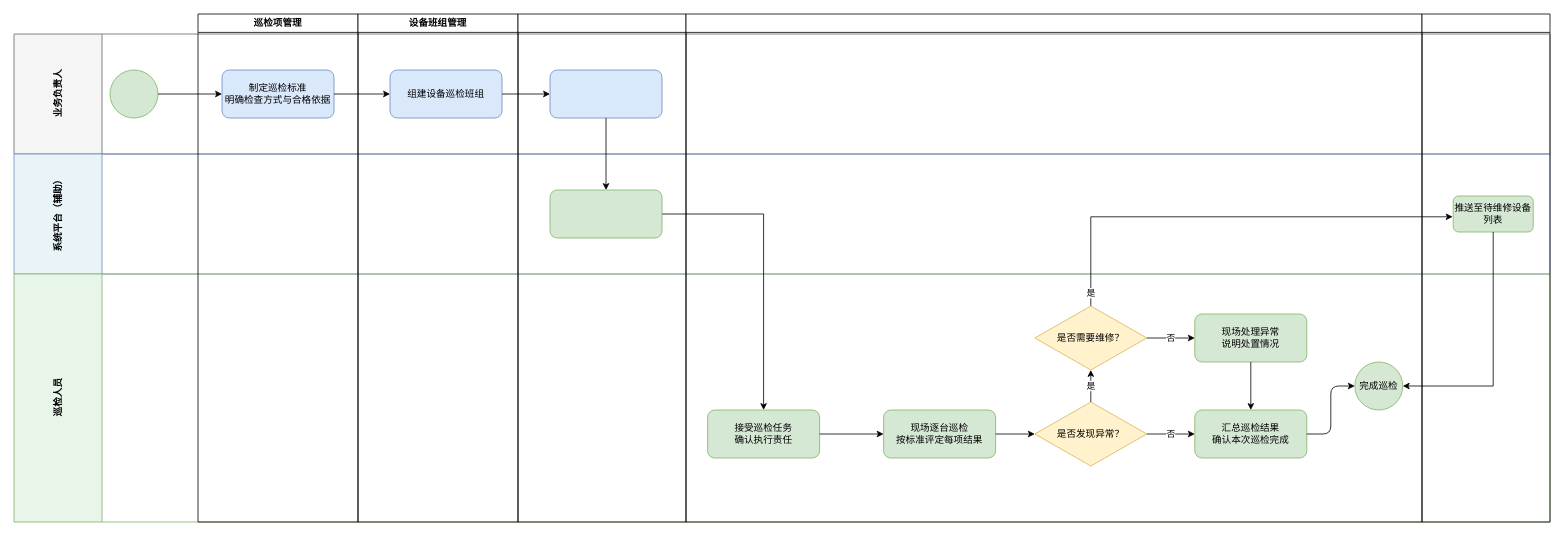
Image size: 1564x536. Some labels were removed from this diagram. Here are the shapes that lost their labels. From the top down, the box of each, then its label:
(109, 69, 158, 118): 巡检管理需求识别
(549, 69, 662, 118): 制定并发布巡检计划 确定设备范围、周期和负责班组
(549, 189, 662, 238): 按计划生成巡检任务工单
(517, 13, 686, 522): 巡检计划管理
(685, 13, 1422, 522): 巡检工单管理
(1421, 13, 1550, 522): 报修管理
